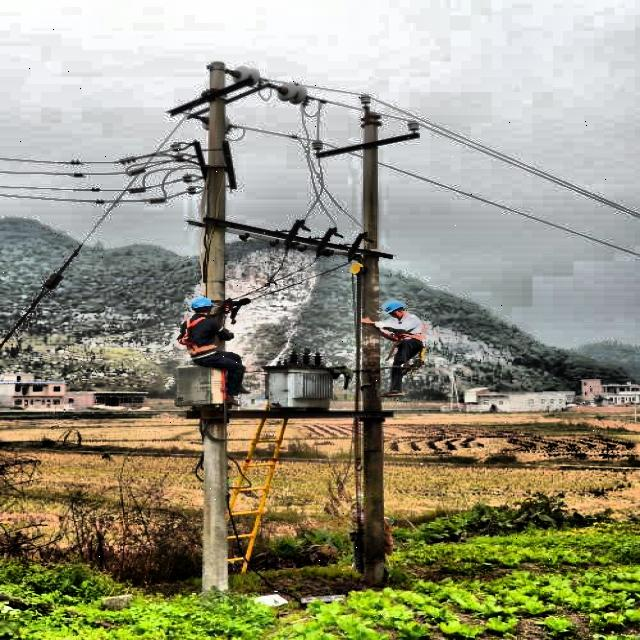helmet: (380, 298, 417, 324), (184, 292, 218, 316)
